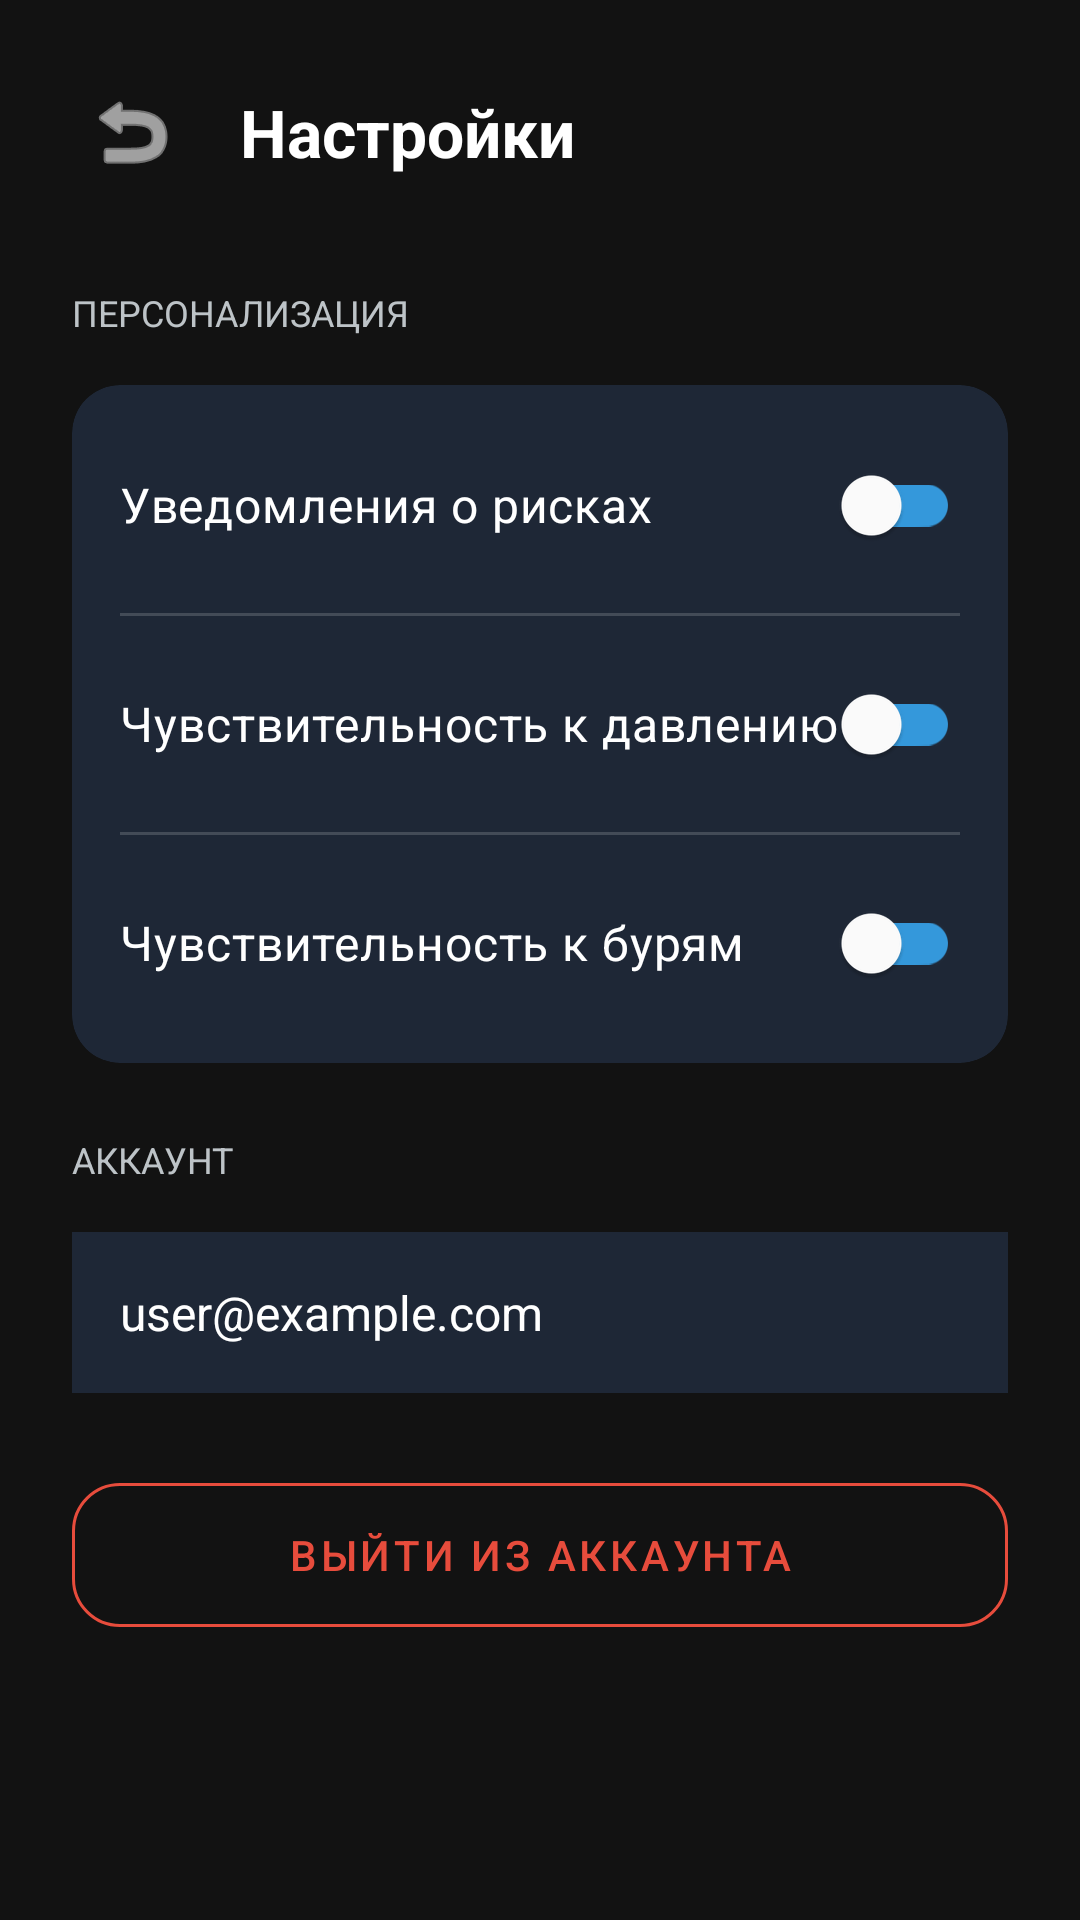

Where to tap for icons on this 1080px×1920px app screen, as (x,y):
revert: (133,132)
